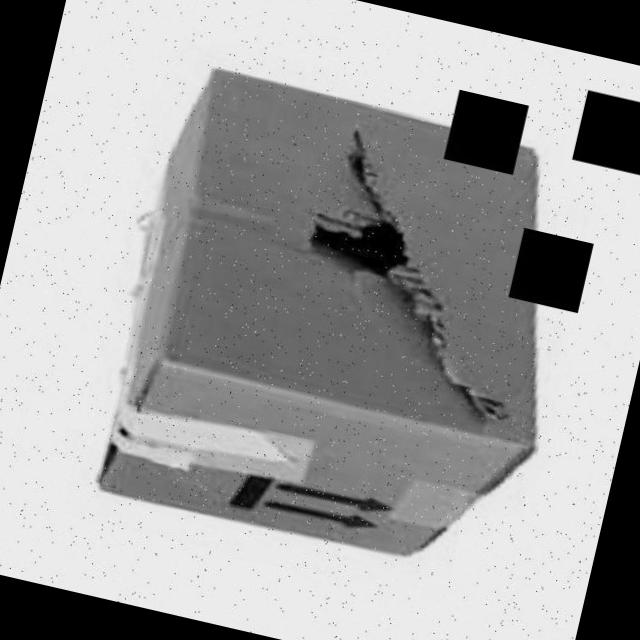box: (79, 52, 590, 590)
